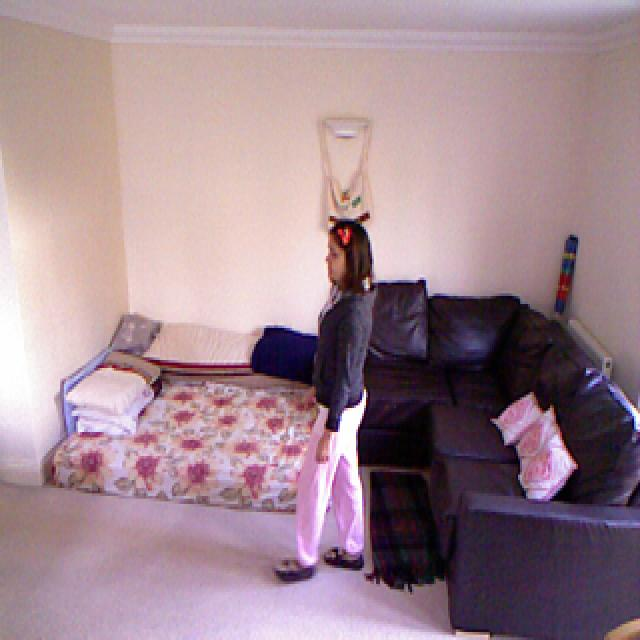standing: (288, 212, 387, 590)
